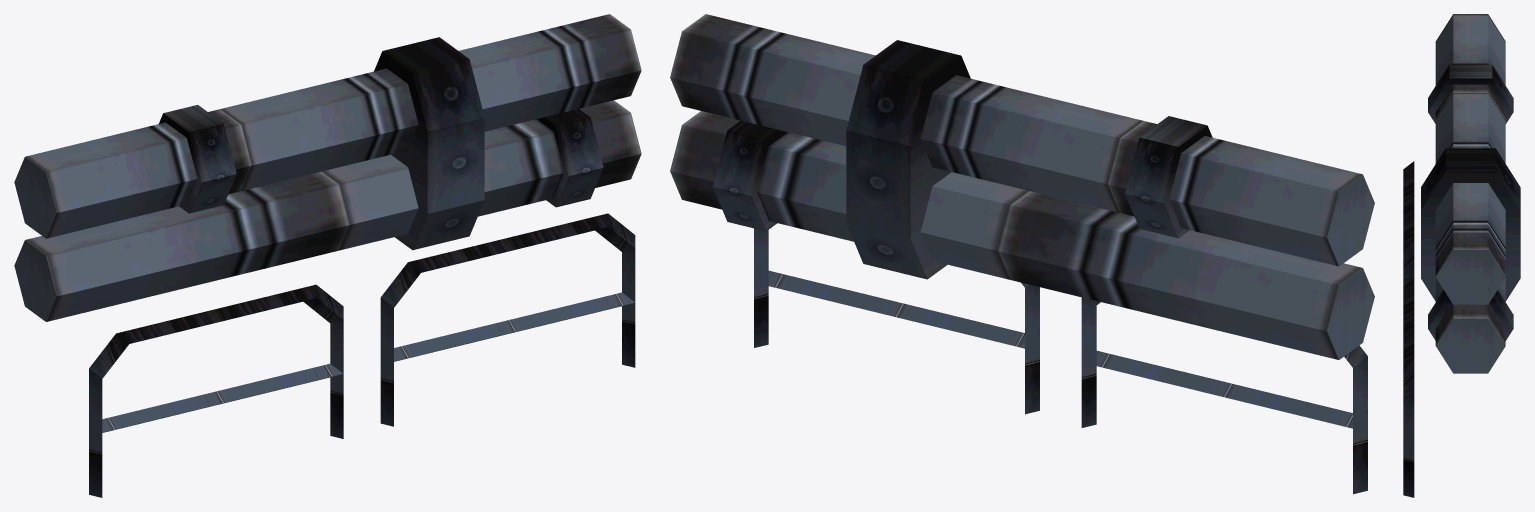
File: pipeBlocker.fbx
The picture shows the model from 3 angles, left to right: view 1: azimuth 30°, elevation 25°; view 2: azimuth 150°, elevation 25°; view 3: azimuth 270°, elevation 25°; orthographic projection. The views are drawn at different scales.
Parts seen in each view (by area): view 1: pipeBlocker; view 2: pipeBlocker; view 3: pipeBlocker.
Part boxes in pixels (box(x1,y1,x2,y2)): pipeBlocker: box(14, 14, 641, 497); pipeBlocker: box(670, 14, 1374, 494); pipeBlocker: box(1403, 14, 1520, 497).
Bounding box in the file's own units: 5 × 2.65 × 1.05.
